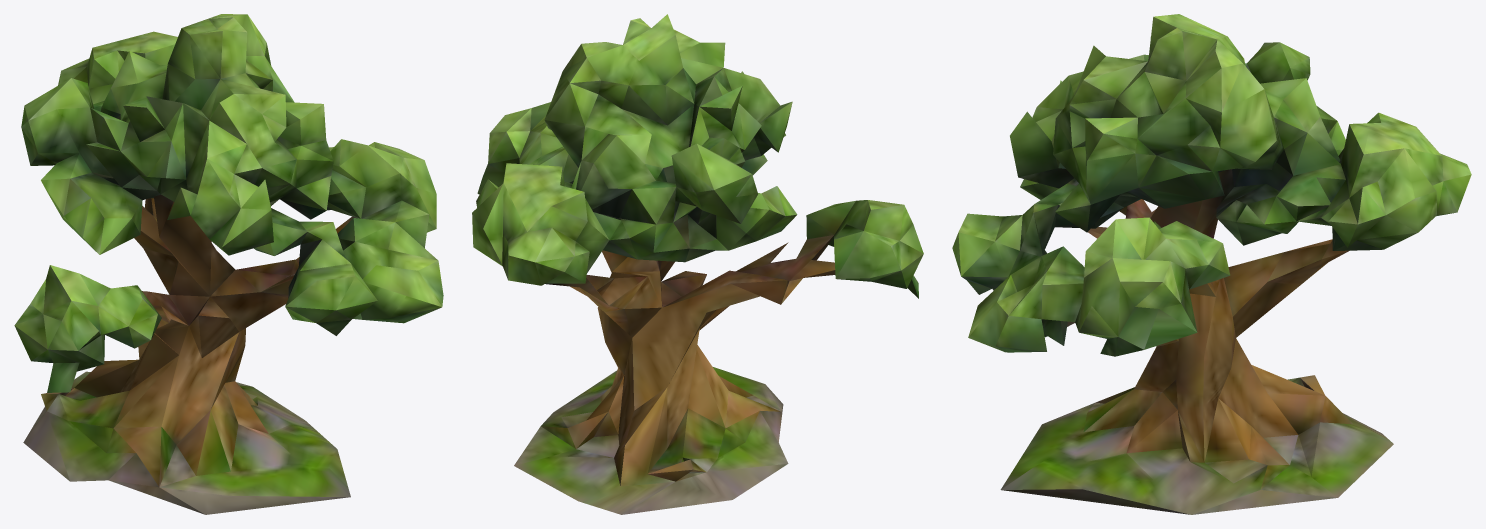
The model's file is tree_cartoon_green_b_lod1.glb.
The picture shows the model from 3 angles, left to right: view 1: azimuth 30°, elevation 25°; view 2: azimuth 150°, elevation 25°; view 3: azimuth 270°, elevation 25°; orthographic projection. The views are drawn at different scales.
Parts seen in each view (by area): view 1: tree_cartoon_green_b_lod1; view 2: tree_cartoon_green_b_lod1; view 3: tree_cartoon_green_b_lod1.
Part boxes in pixels (x1,y1,x2,y2): tree_cartoon_green_b_lod1: (14, 14, 443, 514); tree_cartoon_green_b_lod1: (472, 14, 923, 514); tree_cartoon_green_b_lod1: (952, 14, 1471, 514).
Bounding box in the file's own units: 5.12 × 4.95 × 5.19.
1 material, 1 textured.
